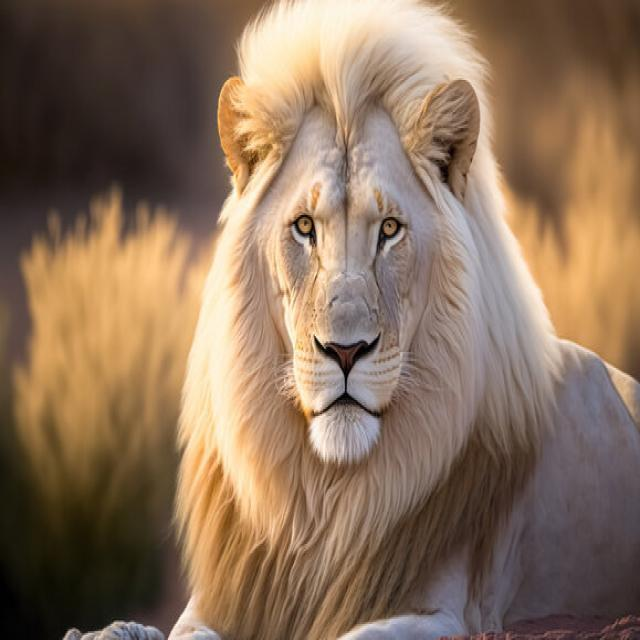lions: (10, 0, 640, 620)
